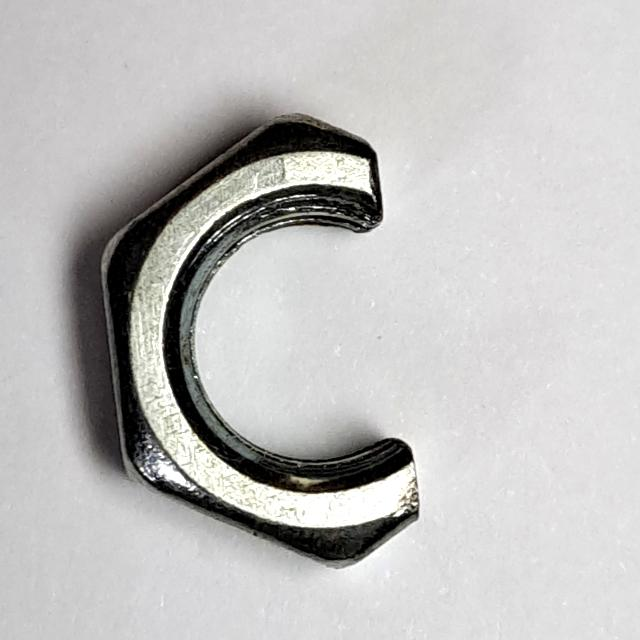Fracture: (91, 100, 449, 585)
